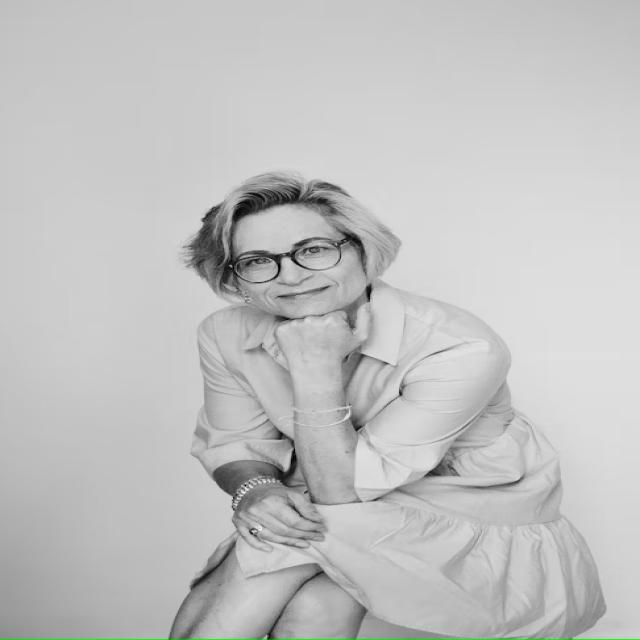Edited images: (132, 158, 638, 640)
